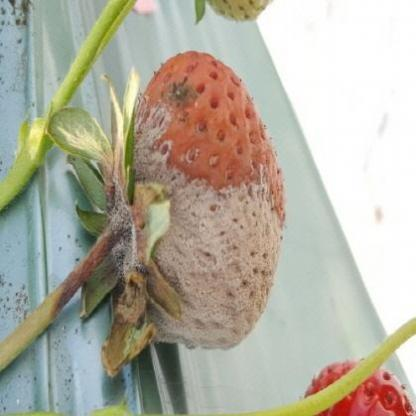Strawberry_Gray_Mold: (52, 80, 284, 351)
